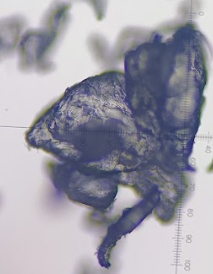microplastic: (24, 71, 194, 225), (122, 23, 208, 174), (91, 184, 162, 270), (46, 160, 120, 214), (19, 2, 71, 72), (1, 16, 26, 61), (81, 1, 106, 21), (204, 157, 213, 173)
